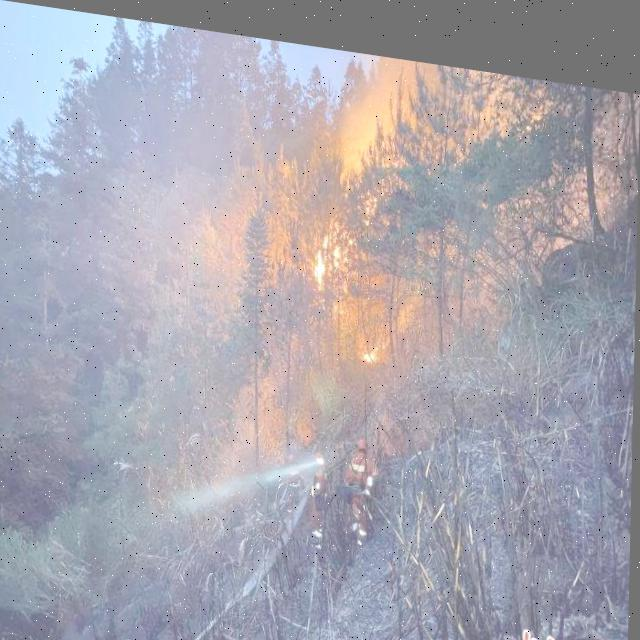Fire: (310, 198, 350, 294), (358, 312, 390, 361)
